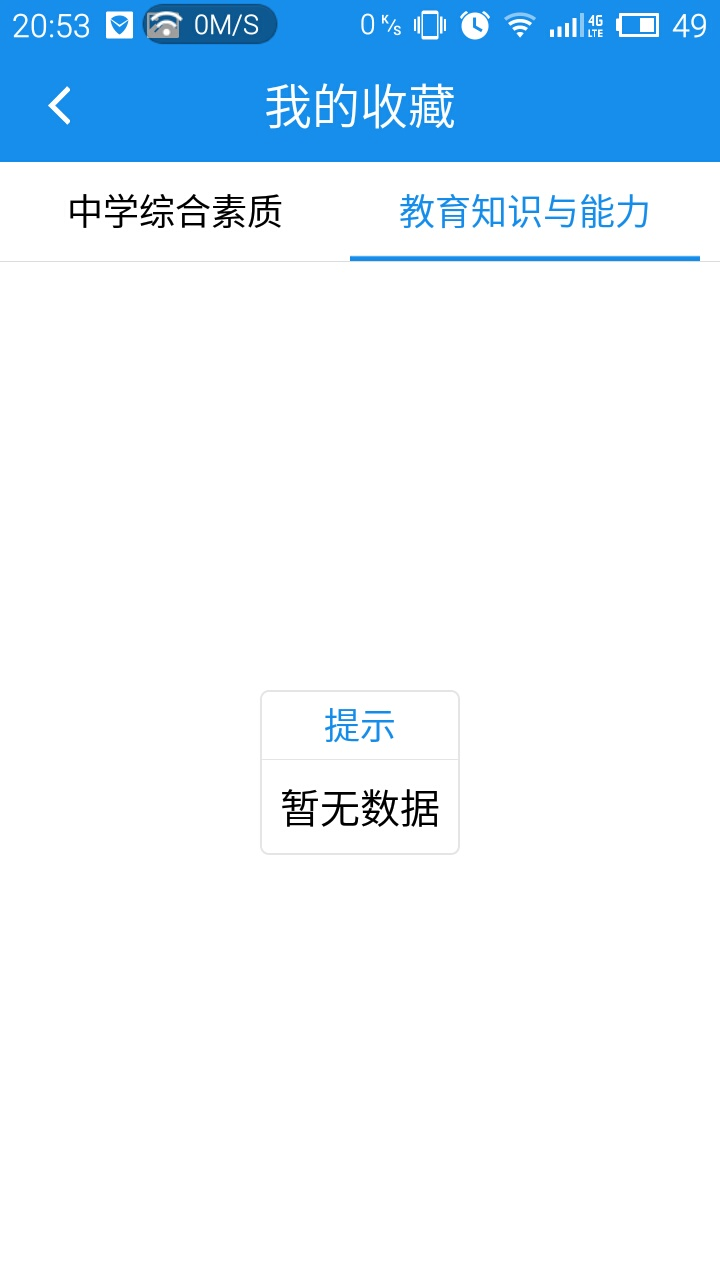alert: (252, 684, 471, 858)
